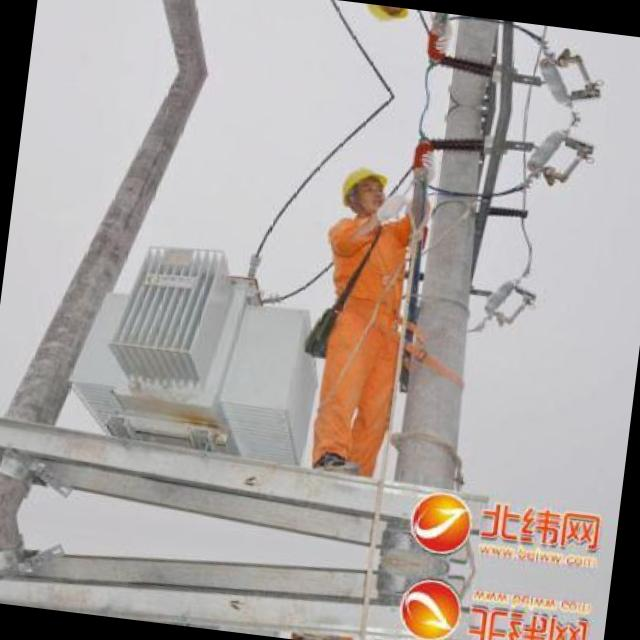helmet: (336, 156, 392, 222), (359, 3, 413, 34)
